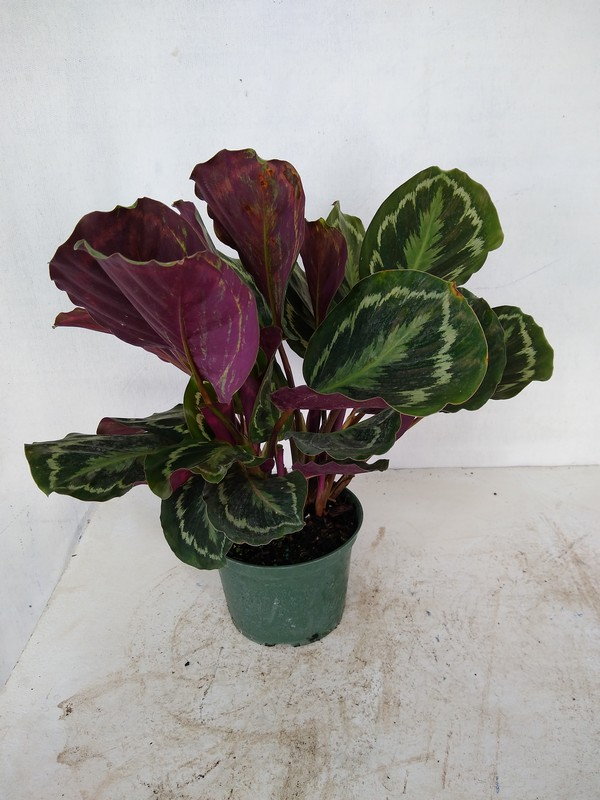plant: (20, 147, 555, 573)
pot: (213, 480, 367, 649)
